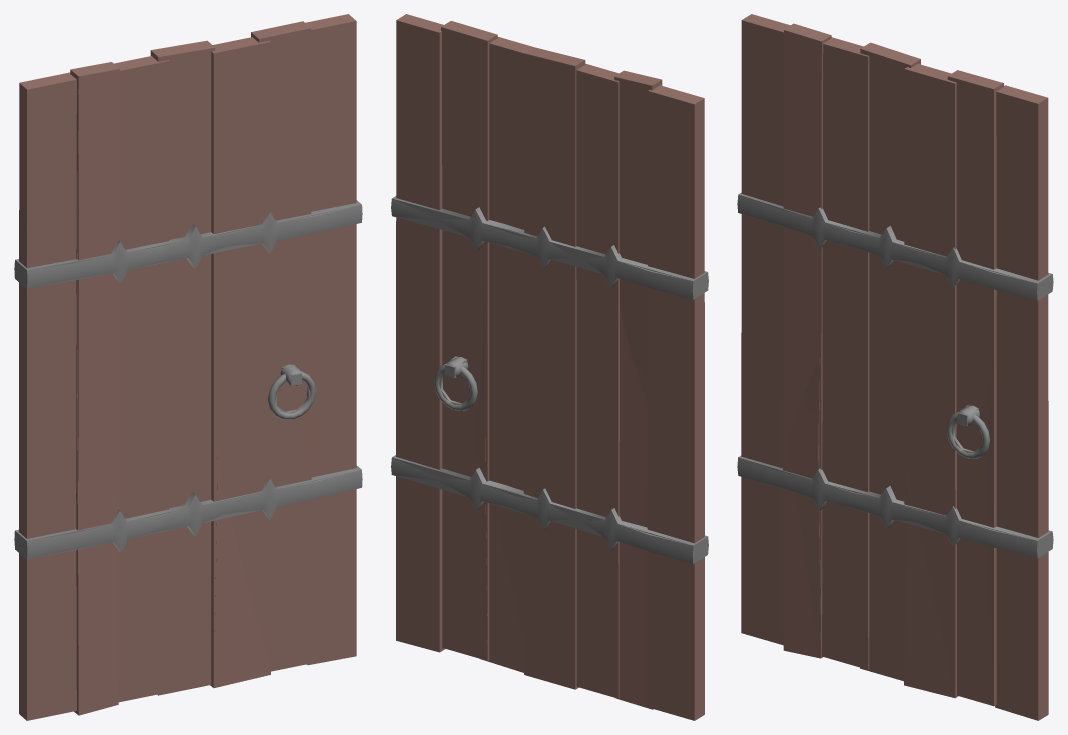
The model's file is Wooden_Door_1.fbx.
The picture shows the model from 3 angles, left to right: view 1: azimuth 30°, elevation 25°; view 2: azimuth 150°, elevation 25°; view 3: azimuth 330°, elevation 25°; orthographic projection. The views are drawn at different scales.
Visible parts, largest first — view 1: Wooden_Door_1_LOD0, Wooden_Door_1; view 2: Wooden_Door_1_LOD0, Wooden_Door_1; view 3: Wooden_Door_1_LOD0, Wooden_Door_1.
Part boxes in pixels (<box>): Wooden_Door_1_LOD0: <box>15,14,361,720</box>; Wooden_Door_1: <box>14,70,362,714</box>; Wooden_Door_1_LOD0: <box>392,14,707,720</box>; Wooden_Door_1: <box>391,77,708,709</box>; Wooden_Door_1_LOD0: <box>738,14,1052,720</box>; Wooden_Door_1: <box>737,36,1053,705</box>.
Bounding box in the file's own units: 1.15 × 2.18 × 0.2083.
